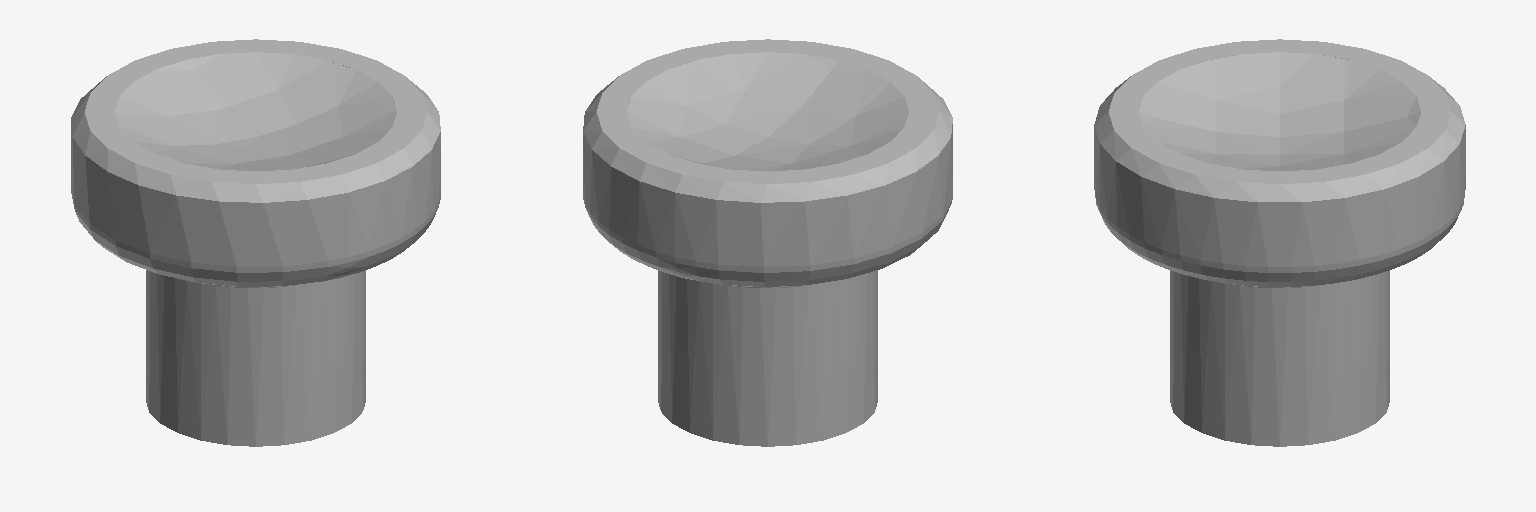
3 views of the same model, side by side, from view 1: azimuth 30°, elevation 25°; view 2: azimuth 150°, elevation 25°; view 3: azimuth 270°, elevation 25° (orthographic).
Visible parts, largest first — view 1: gn_676_5-21-m4-a_1; view 2: gn_676_5-21-m4-a_1; view 3: gn_676_5-21-m4-a_1.
Boxes of the visible parts, box(x1,y1,x2,y2) form: gn_676_5-21-m4-a_1: box(71, 39, 440, 446); gn_676_5-21-m4-a_1: box(583, 39, 952, 446); gn_676_5-21-m4-a_1: box(1094, 39, 1465, 446).
Bounding box in the file's own units: 20.96 × 18 × 21.